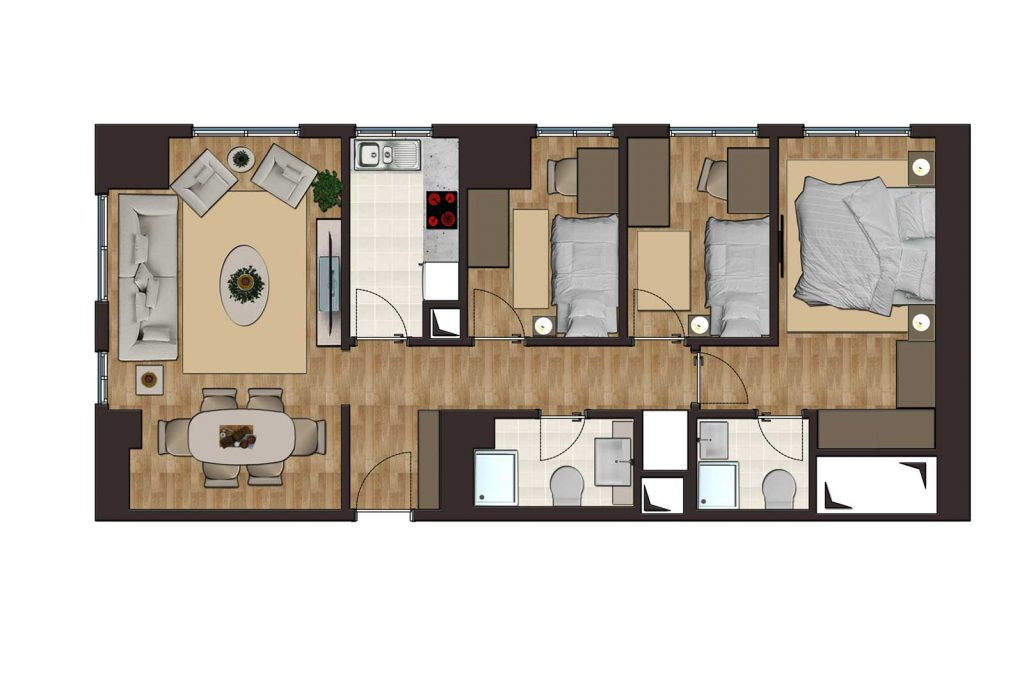room: (92, 125, 352, 525), (775, 120, 960, 429), (461, 122, 627, 349), (616, 120, 779, 347), (345, 121, 473, 351), (435, 406, 642, 521), (458, 406, 644, 521), (687, 406, 818, 521)
